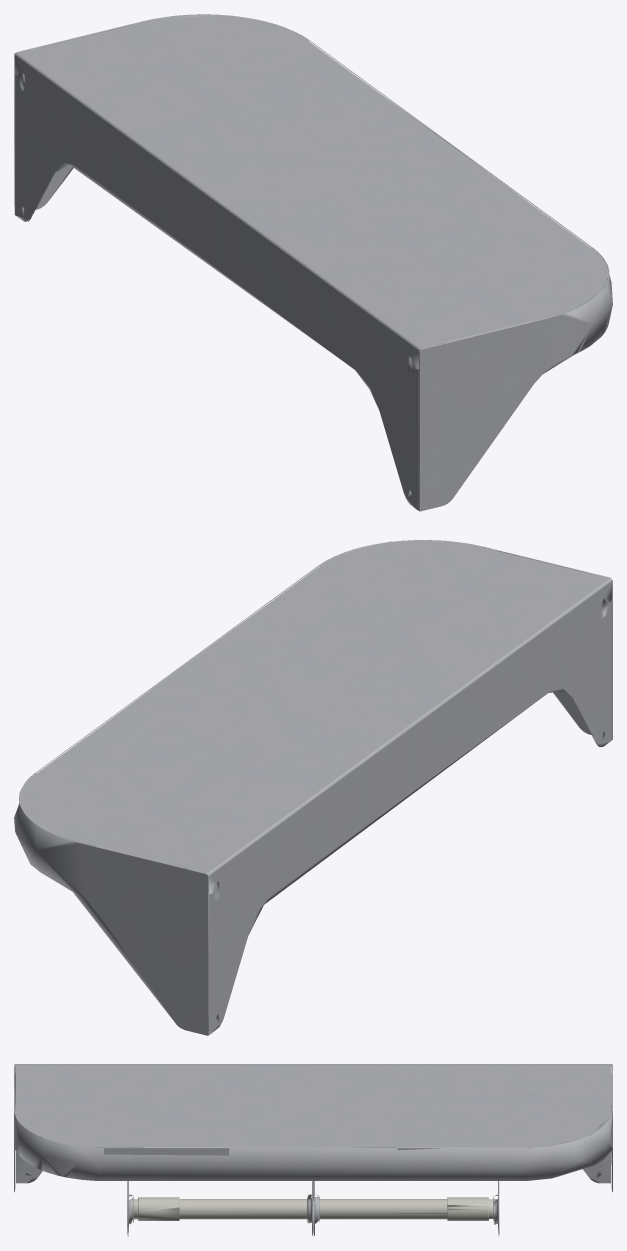
Rendered from fixture_toiletPaperHolder_double_a01.glb.
The picture shows the model from 3 angles, top to bottom: view 1: azimuth 30°, elevation 25°; view 2: azimuth 150°, elevation 25°; view 3: azimuth 270°, elevation 25°; orthographic projection. The views are drawn at different scales.
Visible parts, largest first — view 1: sm_fixture_toiletPaperHolder_double_a01_01; view 2: sm_fixture_toiletPaperHolder_double_a01_01; view 3: sm_fixture_toiletPaperHolder_double_a01_01.
Part boxes in pixels (bbox=[...]): sm_fixture_toiletPaperHolder_double_a01_01: bbox=[14, 14, 612, 511]; sm_fixture_toiletPaperHolder_double_a01_01: bbox=[14, 540, 612, 1035]; sm_fixture_toiletPaperHolder_double_a01_01: bbox=[14, 1064, 612, 1236].
Size of the model in its own units: 0.1545 by 0.0997 by 0.4516.
2 materials, 2 textured.
